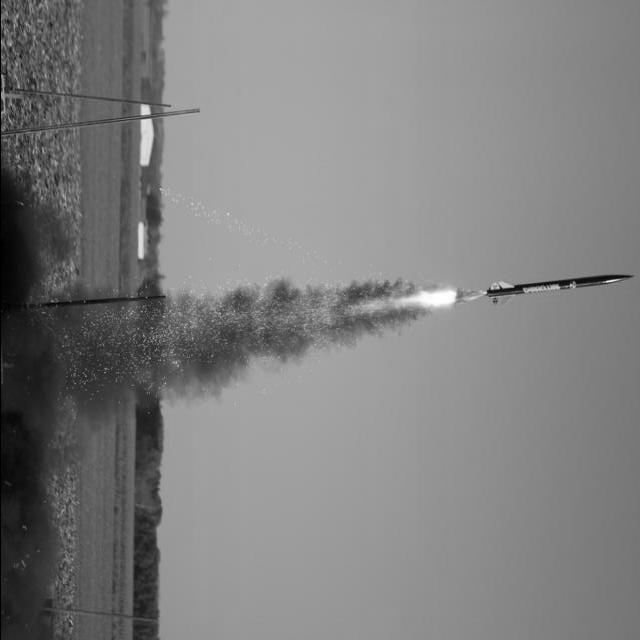missile: (468, 266, 632, 310)
